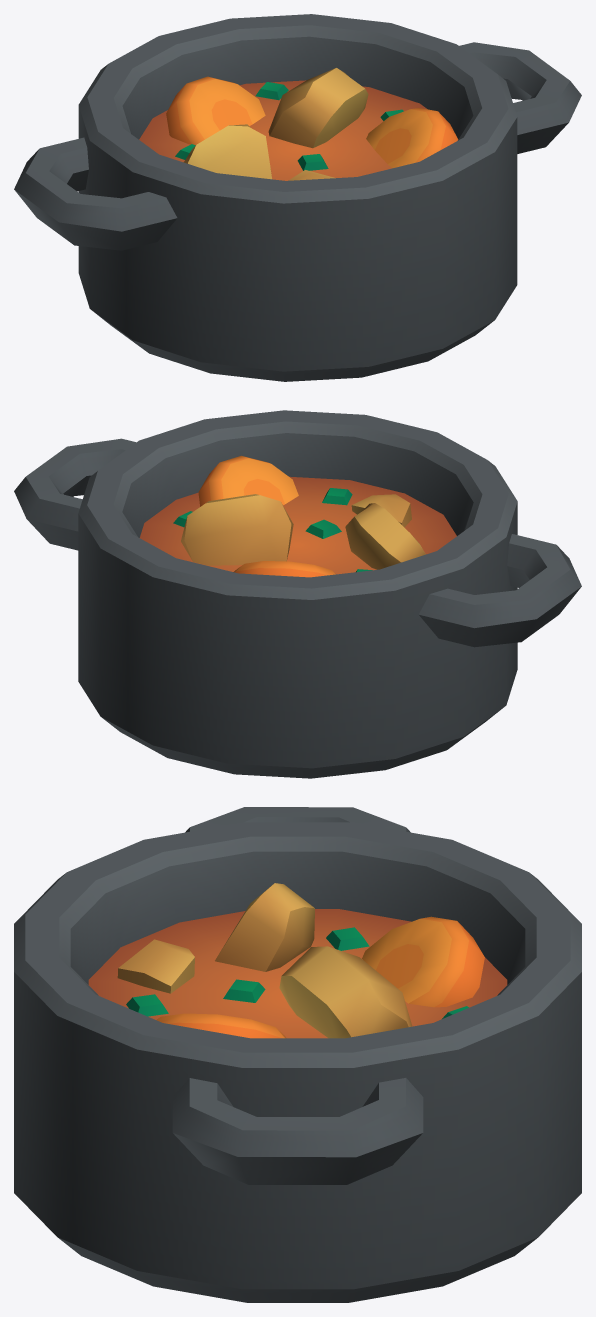
The model's file is Pot of Stew.glb.
3 views of the same model, one above another, from view 1: azimuth 30°, elevation 25°; view 2: azimuth 150°, elevation 25°; view 3: azimuth 270°, elevation 25° (orthographic). The views are drawn at different scales.
Visible parts, largest first — view 1: pot_B_stew; view 2: pot_B_stew; view 3: pot_B_stew.
Boxes of the visible parts, x1,y1,x2,y2 form: pot_B_stew: [14, 14, 581, 381]; pot_B_stew: [14, 410, 581, 778]; pot_B_stew: [14, 807, 581, 1302].
Bounding box in the file's own units: 1.4 × 0.5159 × 1.
Materials: 1 (1 with a texture image).
